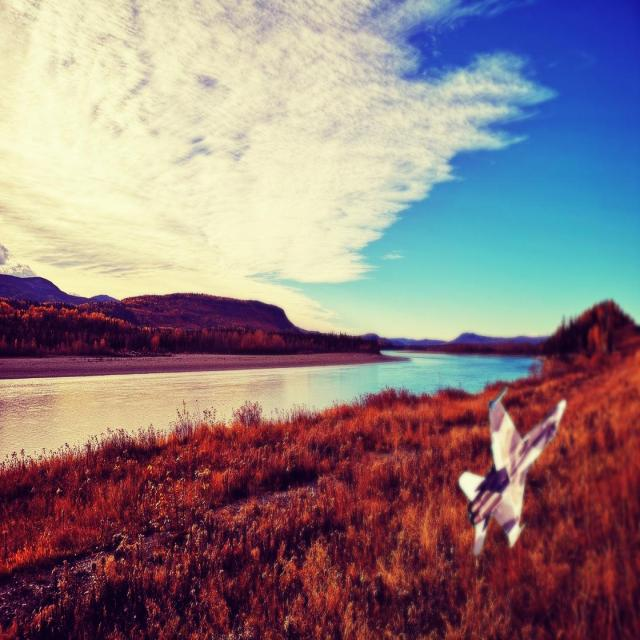airplane: (457, 385, 567, 557)
